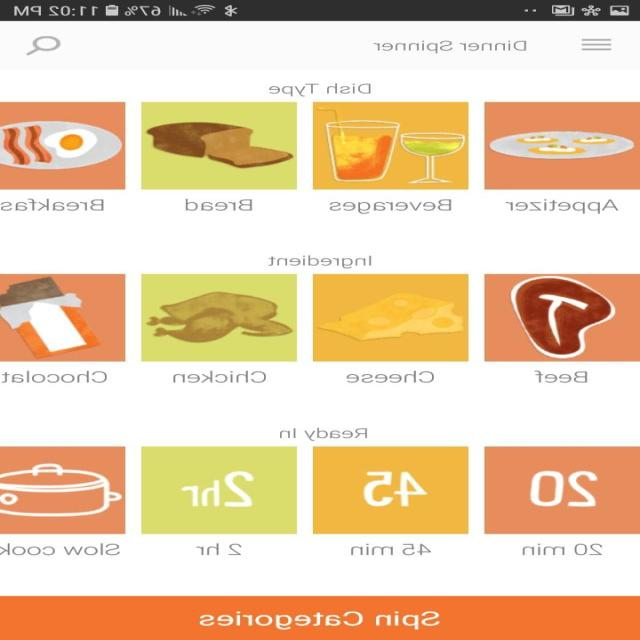Icon: (27, 36, 62, 55), (580, 38, 612, 51)
Image: (312, 273, 470, 362), (312, 446, 470, 534), (484, 273, 640, 362), (142, 273, 298, 362), (484, 446, 640, 534), (142, 446, 298, 534), (484, 102, 640, 189), (142, 102, 298, 189), (313, 102, 468, 189), (0, 273, 126, 362), (0, 446, 126, 534), (0, 102, 126, 189)
Text: (373, 40, 527, 53), (504, 198, 620, 214), (330, 199, 452, 214), (1, 542, 121, 555), (269, 82, 372, 97), (1, 197, 105, 211), (268, 254, 372, 268), (0, 370, 109, 383), (280, 427, 368, 441), (173, 370, 267, 383), (346, 370, 434, 383), (351, 542, 432, 556), (522, 542, 604, 555), (186, 198, 253, 211), (534, 370, 588, 382), (196, 542, 242, 555)
TextButton: (1, 596, 640, 640)
